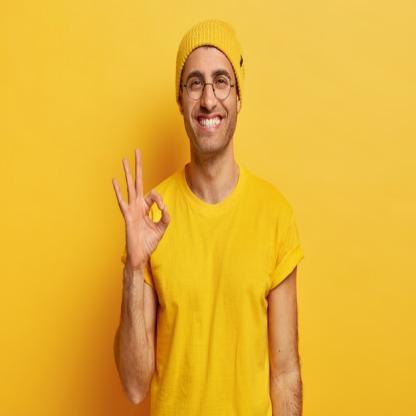ok: (110, 145, 172, 263)
